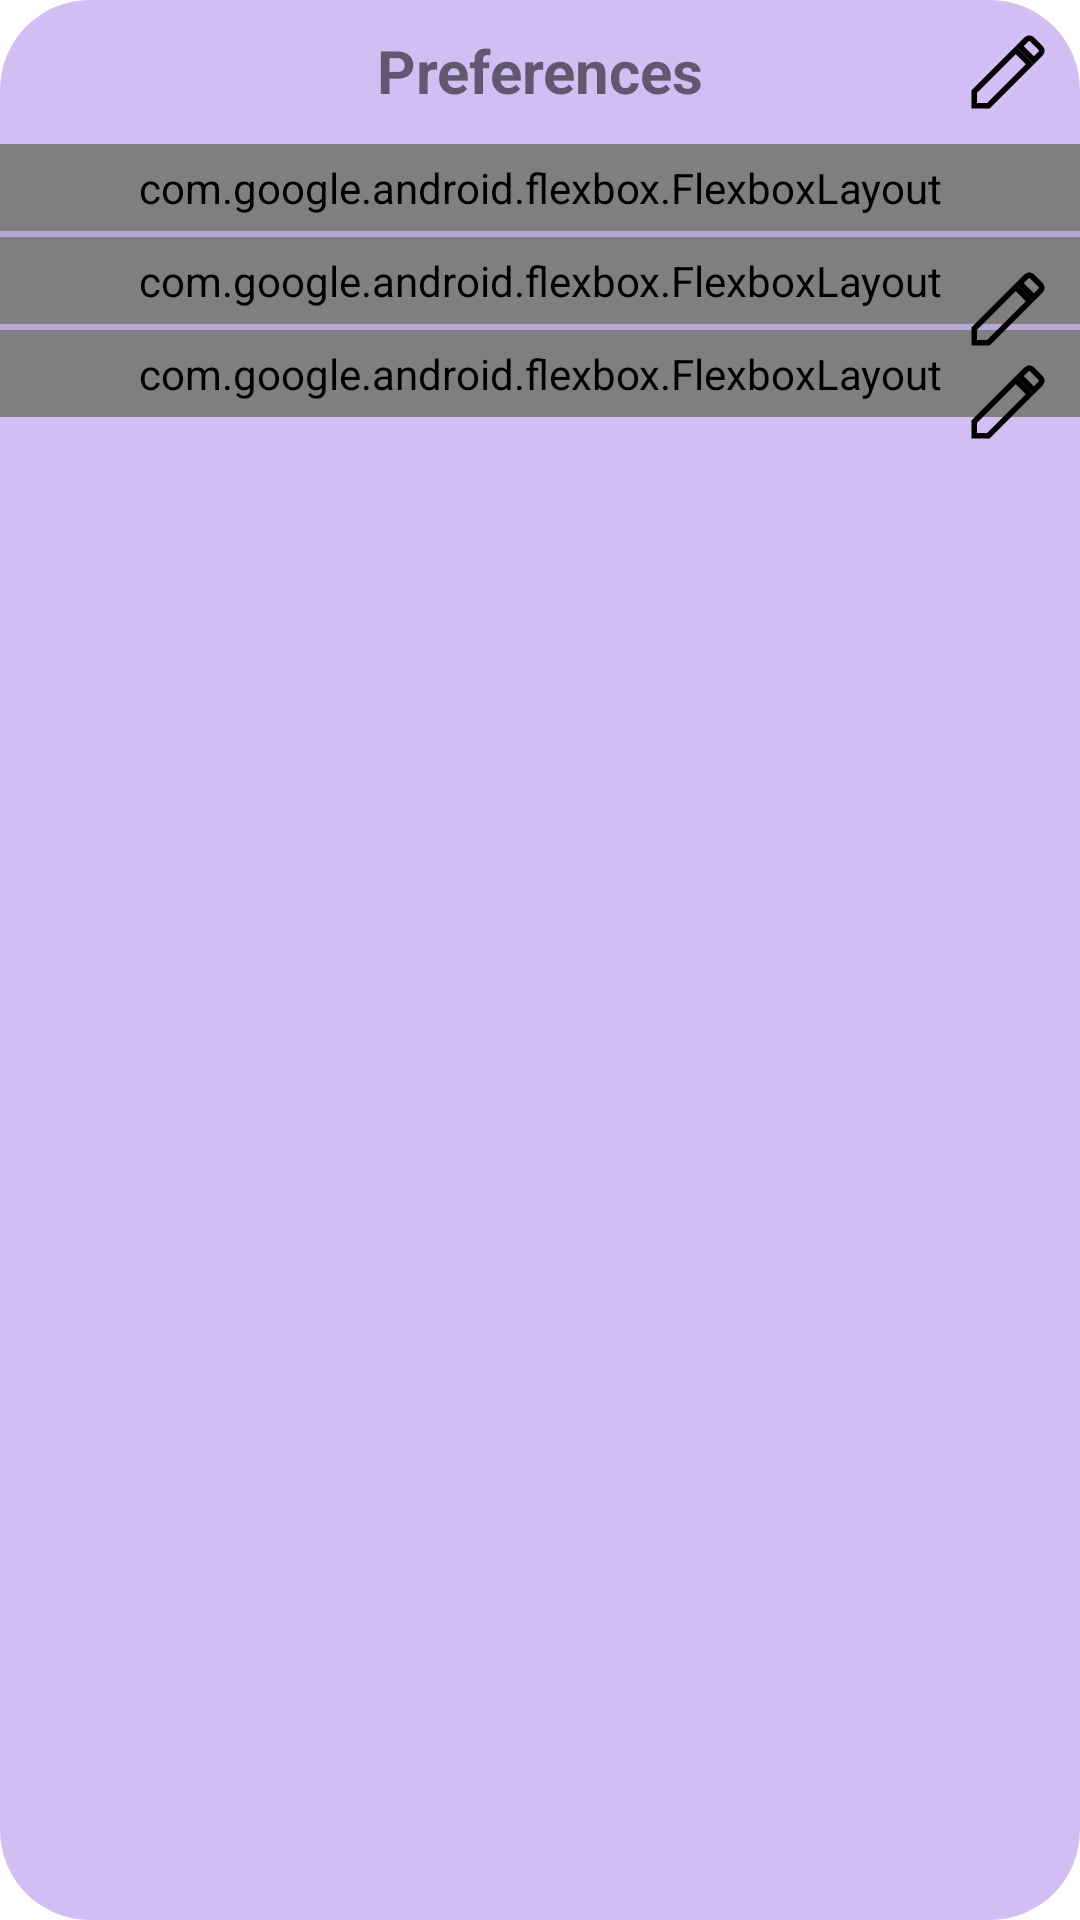

Where to tap for icons on this 1080×1920 app screen, as [x,y]:
change feed preferences: [1008,402]
change preferences: [1008,72]
